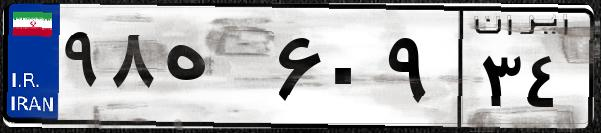0: (330, 28, 385, 110)
3: (475, 38, 525, 113)
4: (525, 38, 570, 115)
6: (270, 28, 330, 110)
8: (110, 28, 158, 98)
9: (385, 28, 445, 110), (57, 26, 110, 100)
ه: (158, 20, 270, 120)
